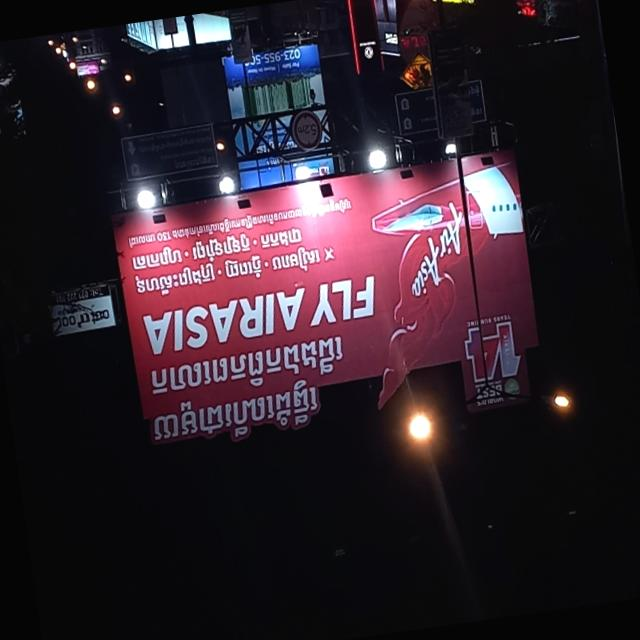Yolov11kh: (148, 376, 326, 461), (146, 333, 345, 396), (130, 246, 324, 303), (127, 223, 306, 272)
